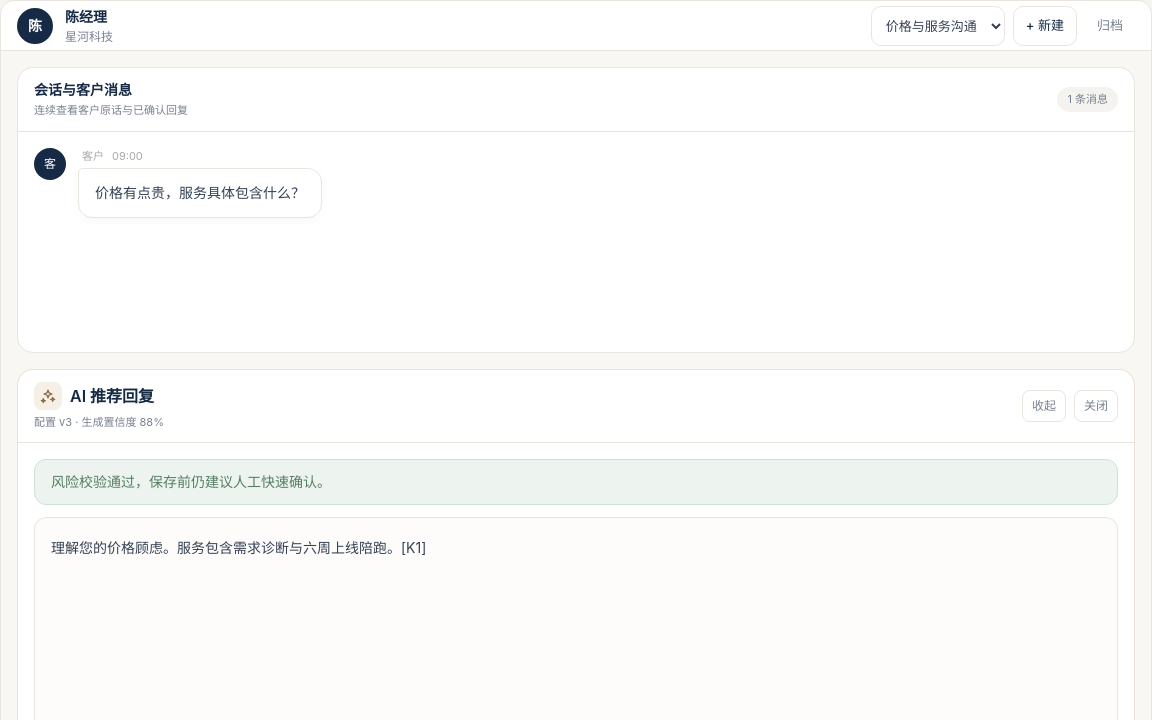
Test: sales workspace response interactions › collapses, hides and restores the latest generation without deleting it
Expected: the text named "推荐回复正文" shows "六周上线陪跑", [51, 539, 426, 556]
Click the button "收起" at (1044, 406), box [1022, 390, 1066, 422]
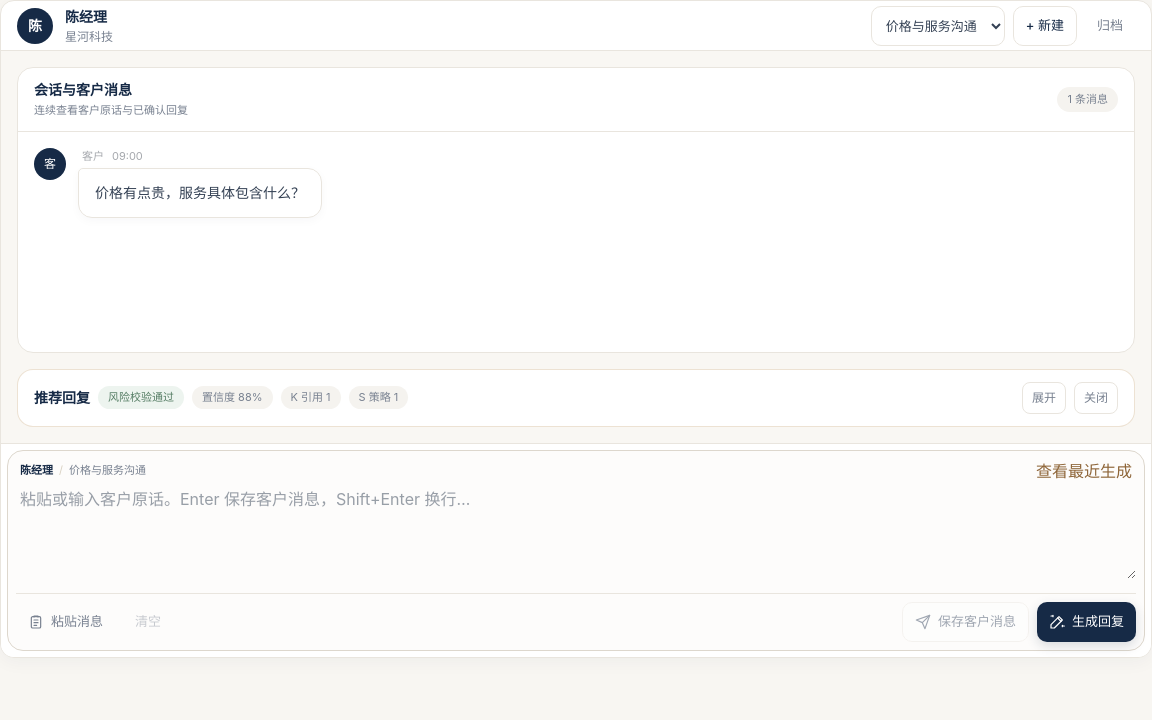
Expected: the element named "已收起的推荐回复" shows "K 引用 1", [290, 390, 331, 404]
Expected: the element named "已收起的推荐回复" shows "S 策略 1", [359, 390, 398, 404]
Click the button with aria-label "关闭推荐回复" at (1096, 398), box [1074, 382, 1118, 414]
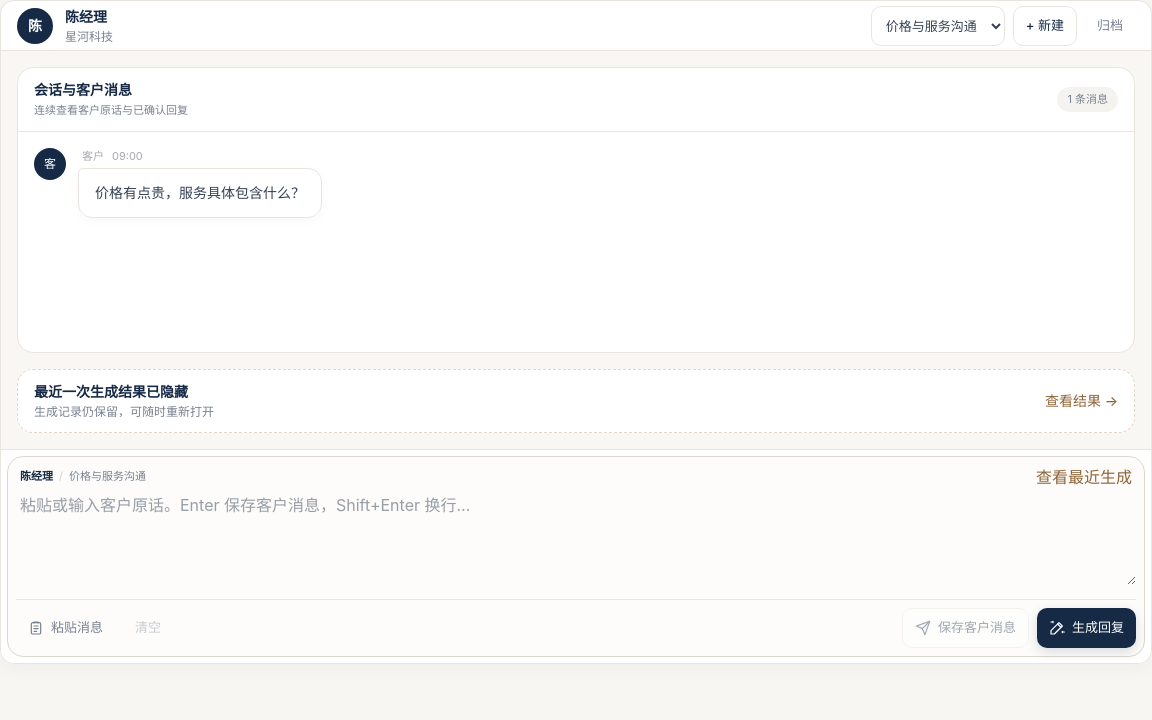
Now the text "最近一次生成结果已隐藏" is shown, box [34, 382, 214, 402]
Click the button "查看最近生成" at (1084, 476), box [1036, 464, 1132, 488]
(page scrolled)
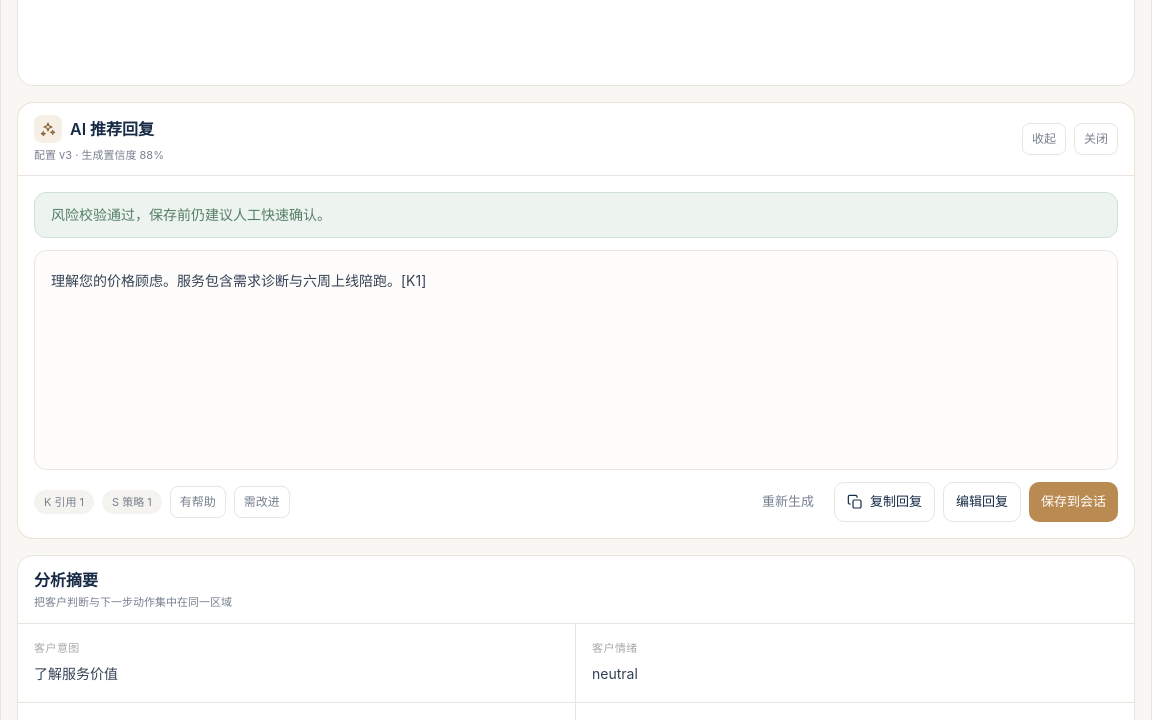
Now the text named "推荐回复正文" is shown, box [34, 250, 1118, 470]
